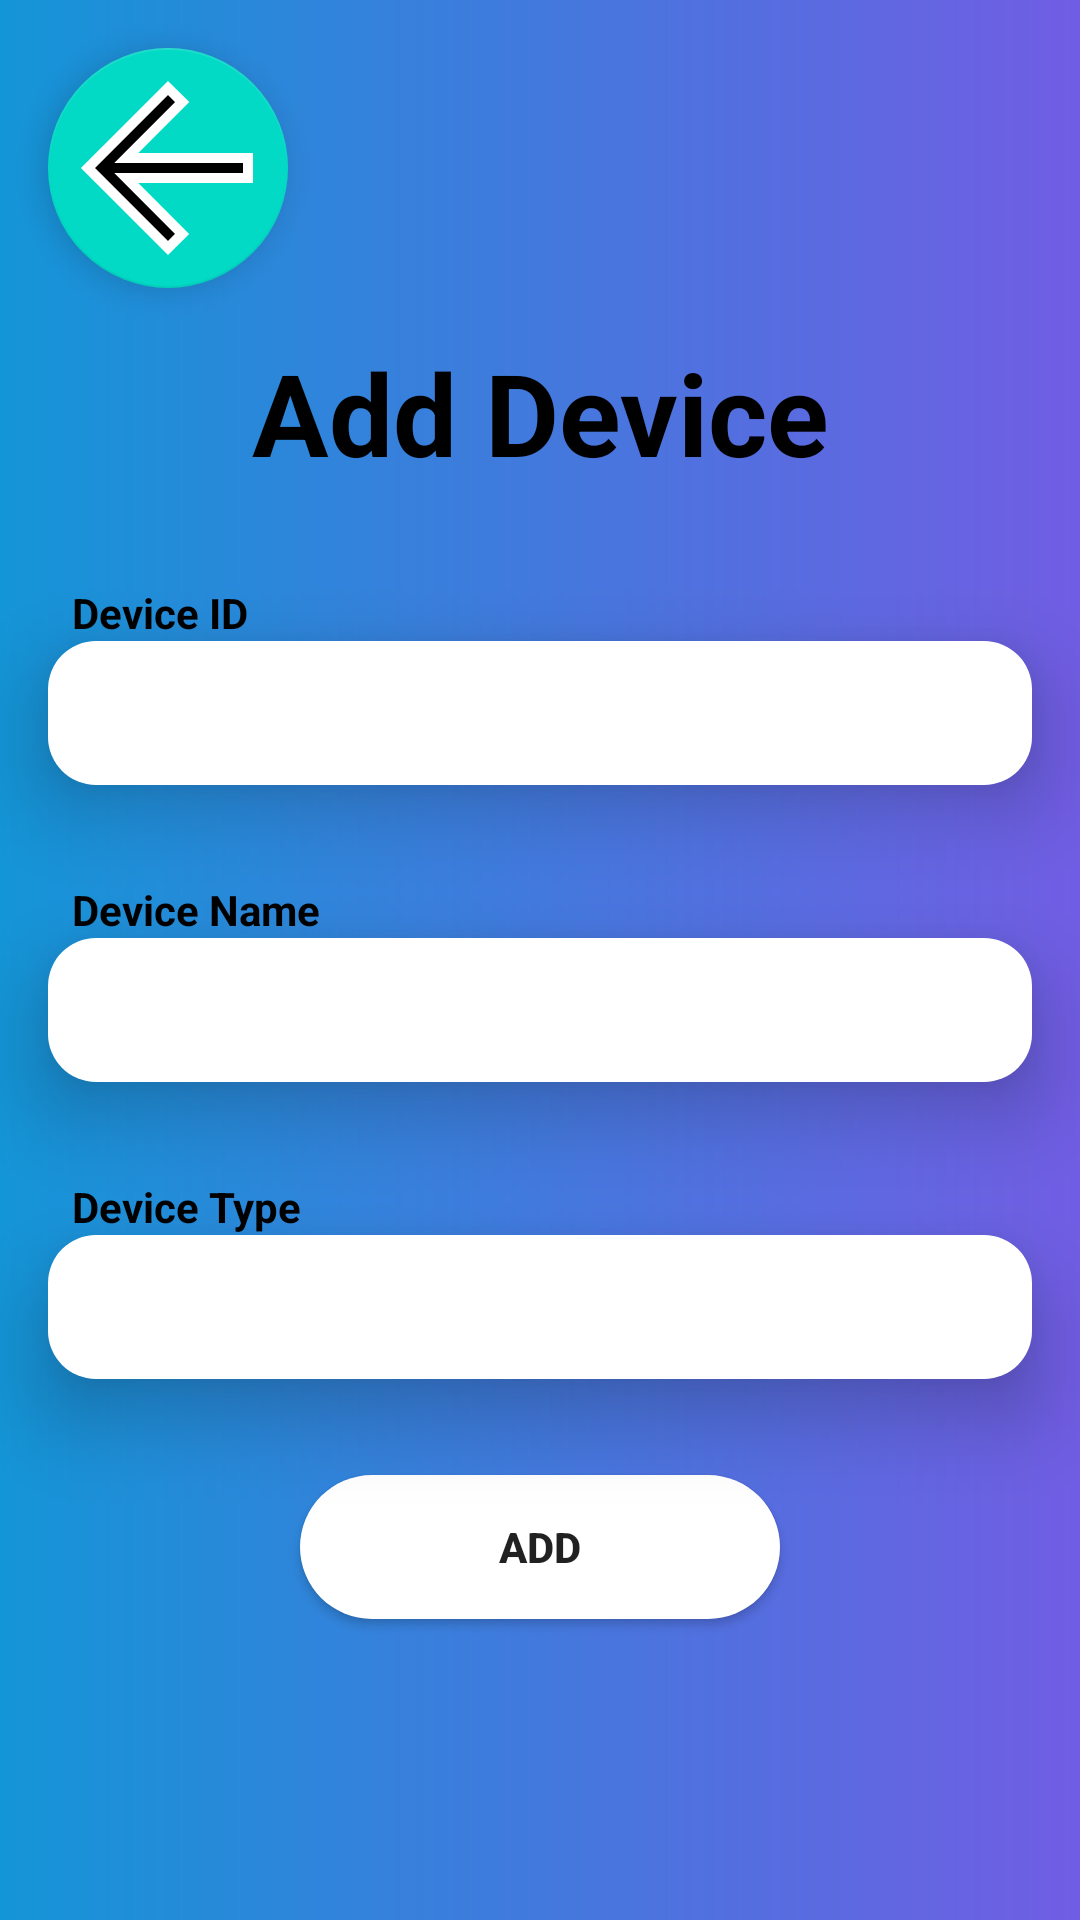

Named icons in this screenshot (1080px x 1920px) and their centers, (x=x, y=y):
arrow back: (x=168, y=168)
